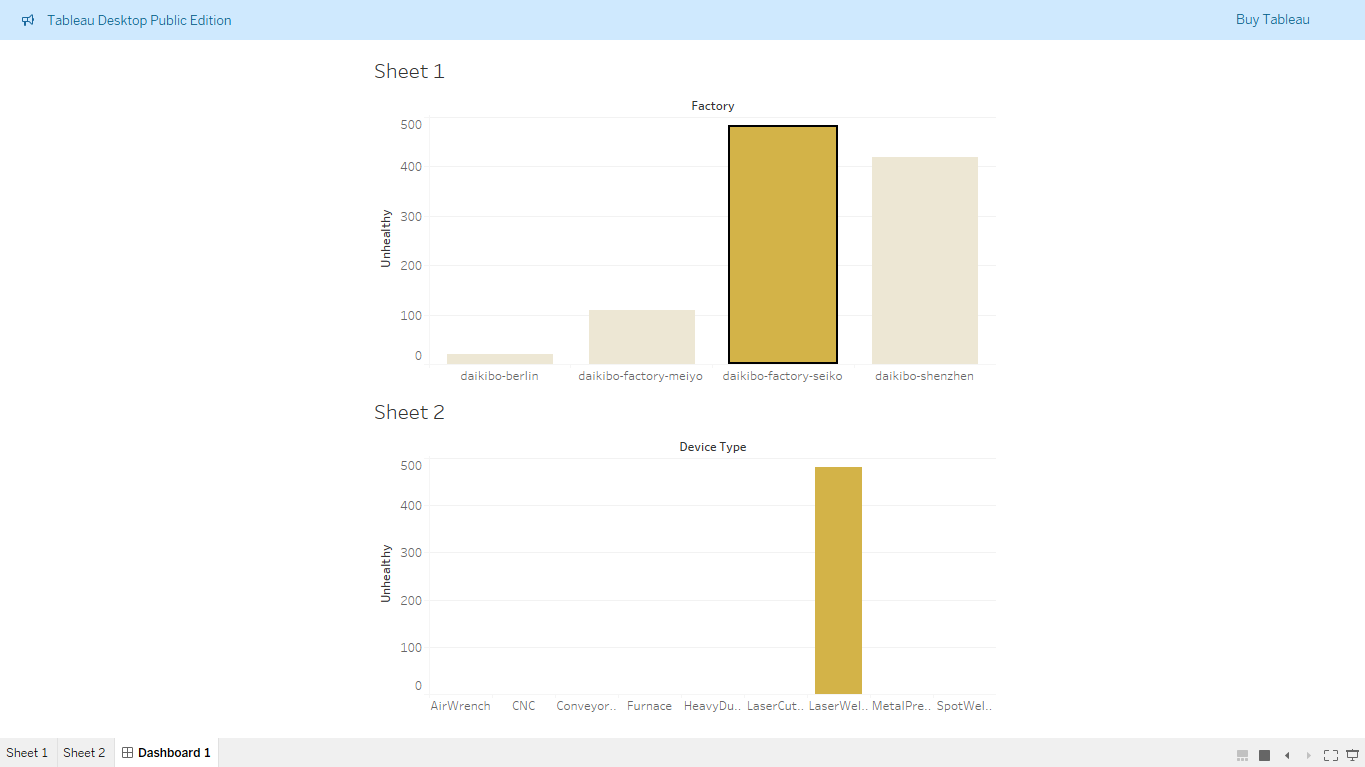

The dashboard page shown, as its layout file describes it:
{"tool":"tableau","page":{"name":"Dashboard 1","canvas":[650,860],"ordinal":0},"visuals":[{"type":"worksheet","title":"Sheet 1","mark":"Automatic","rows":["Calculation_938156117487661056"],"cols":["factory"],"box":[8,12.3,634,417.7]},{"type":"worksheet","title":"Sheet 2","mark":"Automatic","rows":["Calculation_938156117487661056"],"cols":["deviceType"],"box":[8,430,634,417.7]}]}

Visuals, with their boxes on the page's 650x860 design canvas (x1, y1, x2, y2). These are canvas units, not pixel positions in the 1365x767 screenshot, which may show the page scaled, cropped or inside an application window:
"Sheet 1" worksheet: [8,12,642,430]
"Sheet 2" worksheet: [8,430,642,848]
